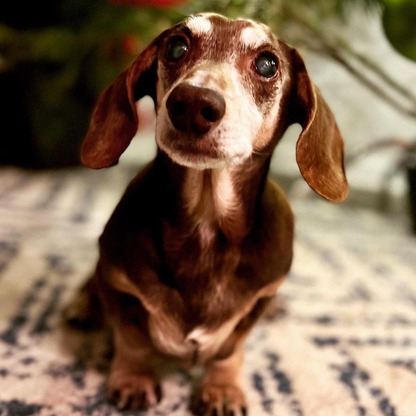dachshund: (87, 10, 350, 402)
